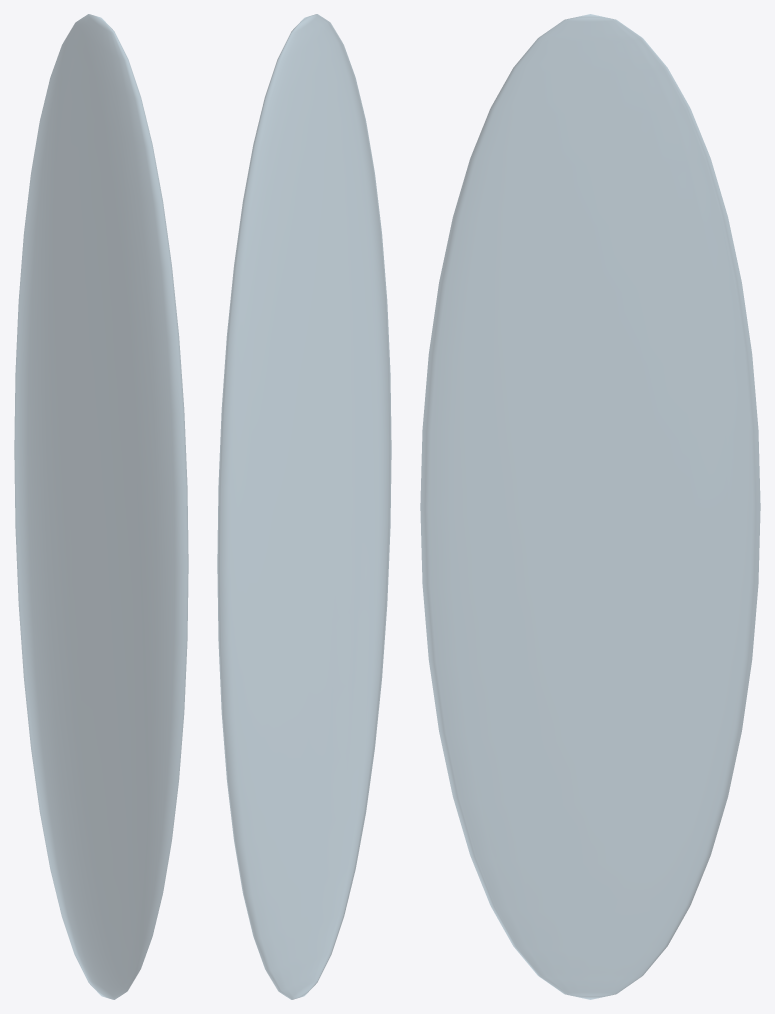
The model's file is TeleportAnimation.fbx.
3 renders of one model, left to right at view 1: azimuth 30°, elevation 25°; view 2: azimuth 150°, elevation 25°; view 3: azimuth 270°, elevation 25°, orthographic.
Visible parts, largest first — view 1: pSphere1; view 2: pSphere1; view 3: pSphere1.
Boxes of the visible parts, bbox=[...] form: pSphere1: bbox=[14, 14, 188, 999]; pSphere1: bbox=[217, 14, 391, 999]; pSphere1: bbox=[420, 14, 760, 999].
Bounding box in the file's own units: 0.7489 × 15.81 × 4.94.
